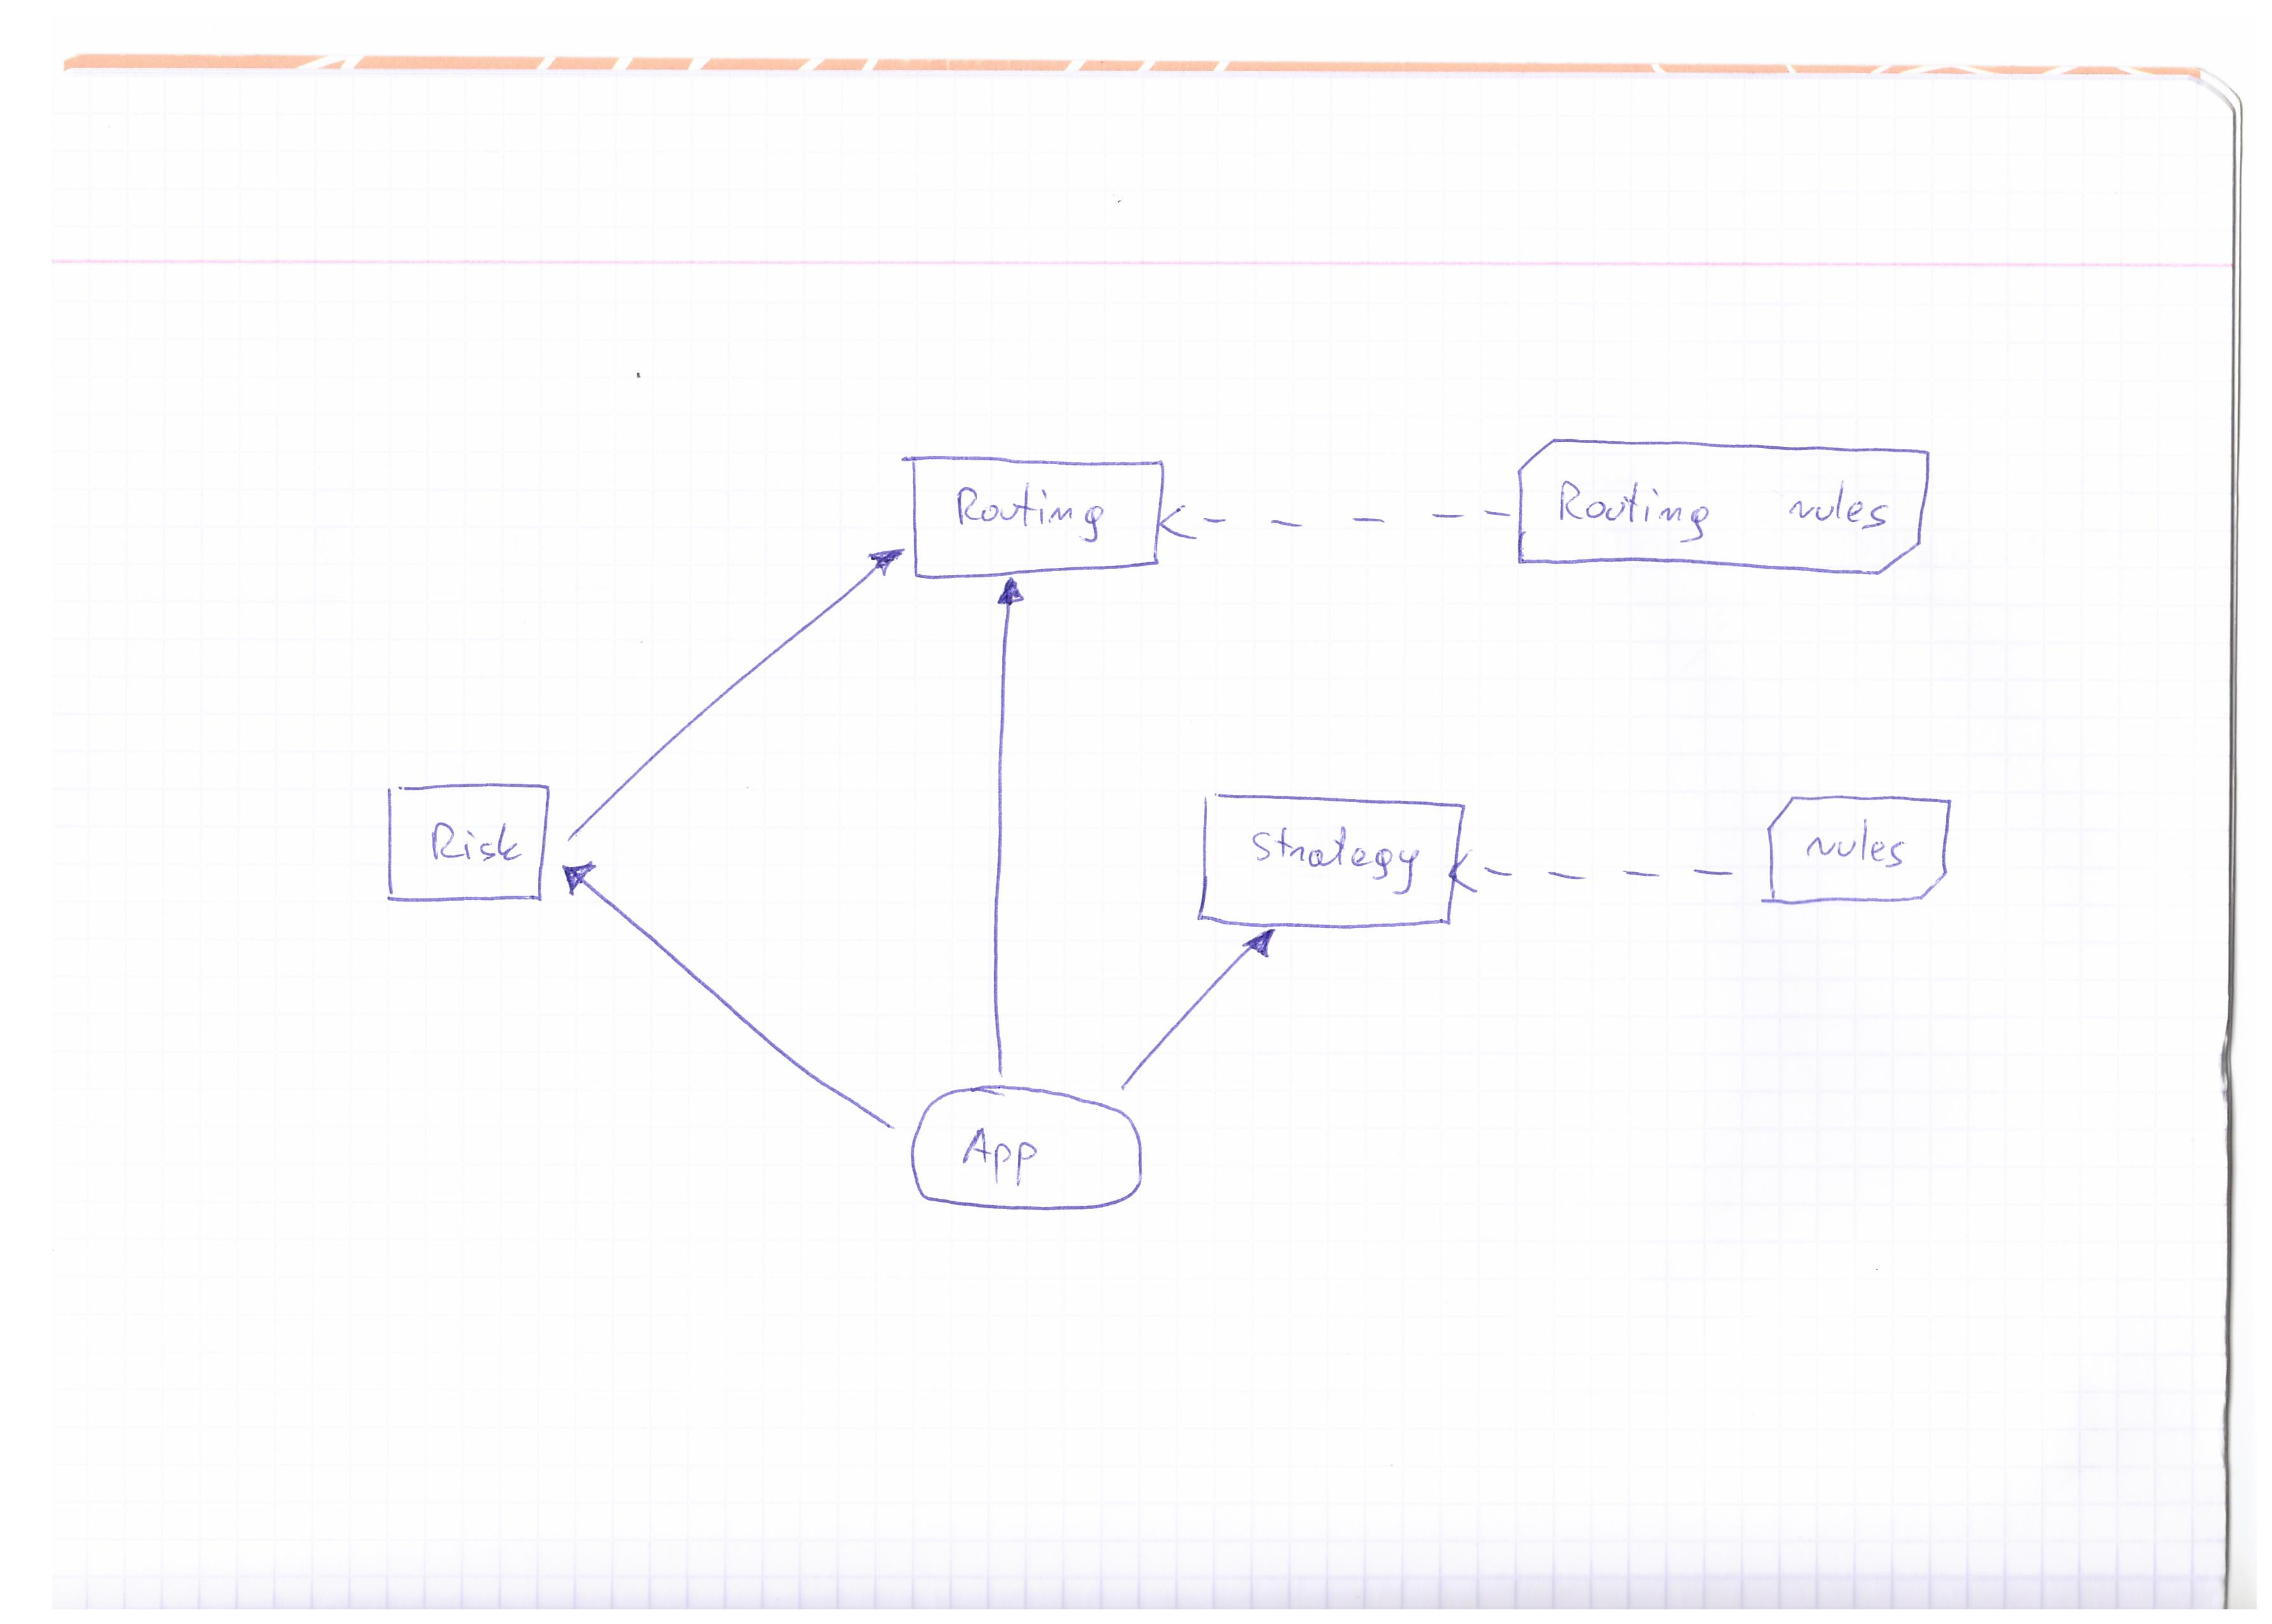arrow_information_requirement: (561, 536, 907, 852), (554, 858, 900, 1139), (1109, 921, 1286, 1091), (975, 571, 1031, 1079)
arrow_knowledge_requirement: (1153, 489, 1518, 555), (1443, 844, 1750, 905)
node_decision: (1190, 787, 1462, 939), (900, 445, 1170, 585), (374, 772, 562, 921)
node_input_data: (894, 1084, 1169, 1220)
node_knowledge_model: (1509, 425, 1949, 598), (1750, 780, 1961, 917)
text: (1548, 468, 1903, 550), (1239, 816, 1434, 905), (938, 471, 1114, 555), (1791, 810, 1912, 882), (947, 1116, 1049, 1195), (413, 808, 532, 874)
